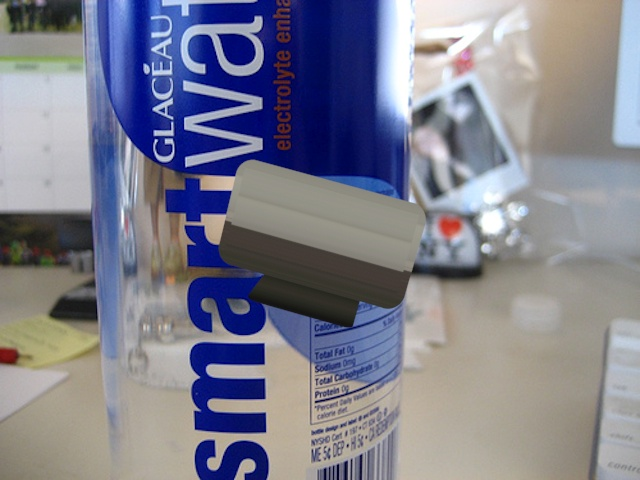monitor: (209, 155, 432, 328)
